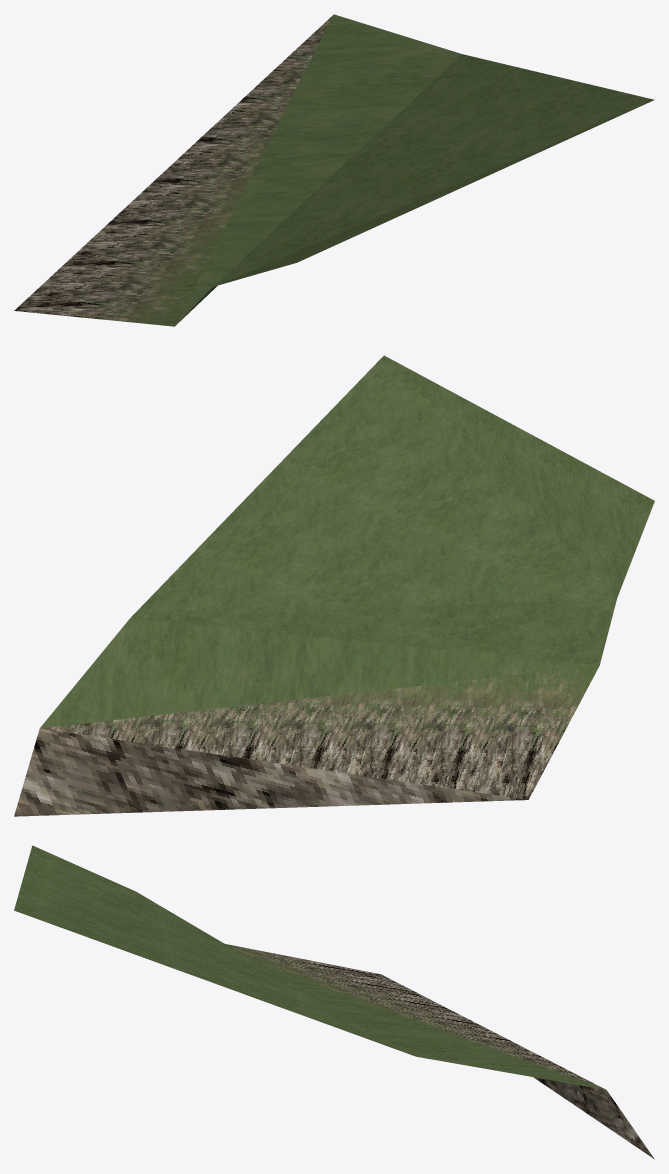
File: LODa_carisle_mid_landmass_02_09.fbx
The picture shows the model from 3 angles, top to bottom: view 1: azimuth 30°, elevation 25°; view 2: azimuth 150°, elevation 25°; view 3: azimuth 270°, elevation 25°; orthographic projection. The views are drawn at different scales.
Parts seen in each view (by area): view 1: LODa_carisle_mid_landmass_02_09; view 2: LODa_carisle_mid_landmass_02_09; view 3: LODa_carisle_mid_landmass_02_09.
Boxes of the visible parts, x1=… form: LODa_carisle_mid_landmass_02_09: x1=14, y1=14, x2=654, y2=326; LODa_carisle_mid_landmass_02_09: x1=14, y1=355, x2=654, y2=816; LODa_carisle_mid_landmass_02_09: x1=14, y1=845, x2=654, y2=1159.
Bounding box in the file's own units: 15.69 × 23.31 × 9.16.
